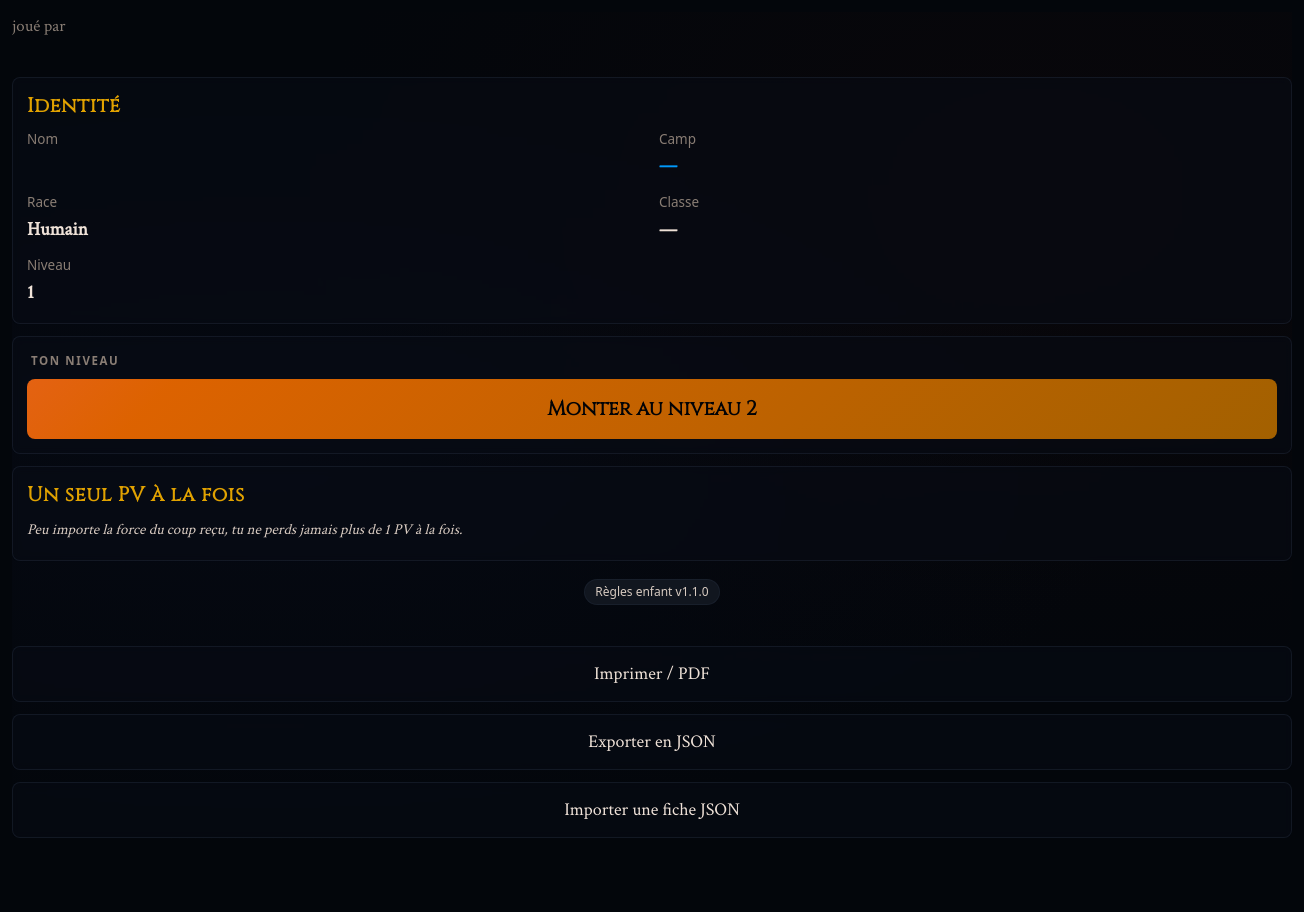
Test case: D17 ⑥ jumelle — les échelons sans capacité : Lutte et Dégâts, lus de la table › l’échelon de Lutte montre le gain de la table, et rien à choisir
Click the button "Monter au niveau 2" at (652, 409), box x1=27 y1=379 x2=1277 y2=439
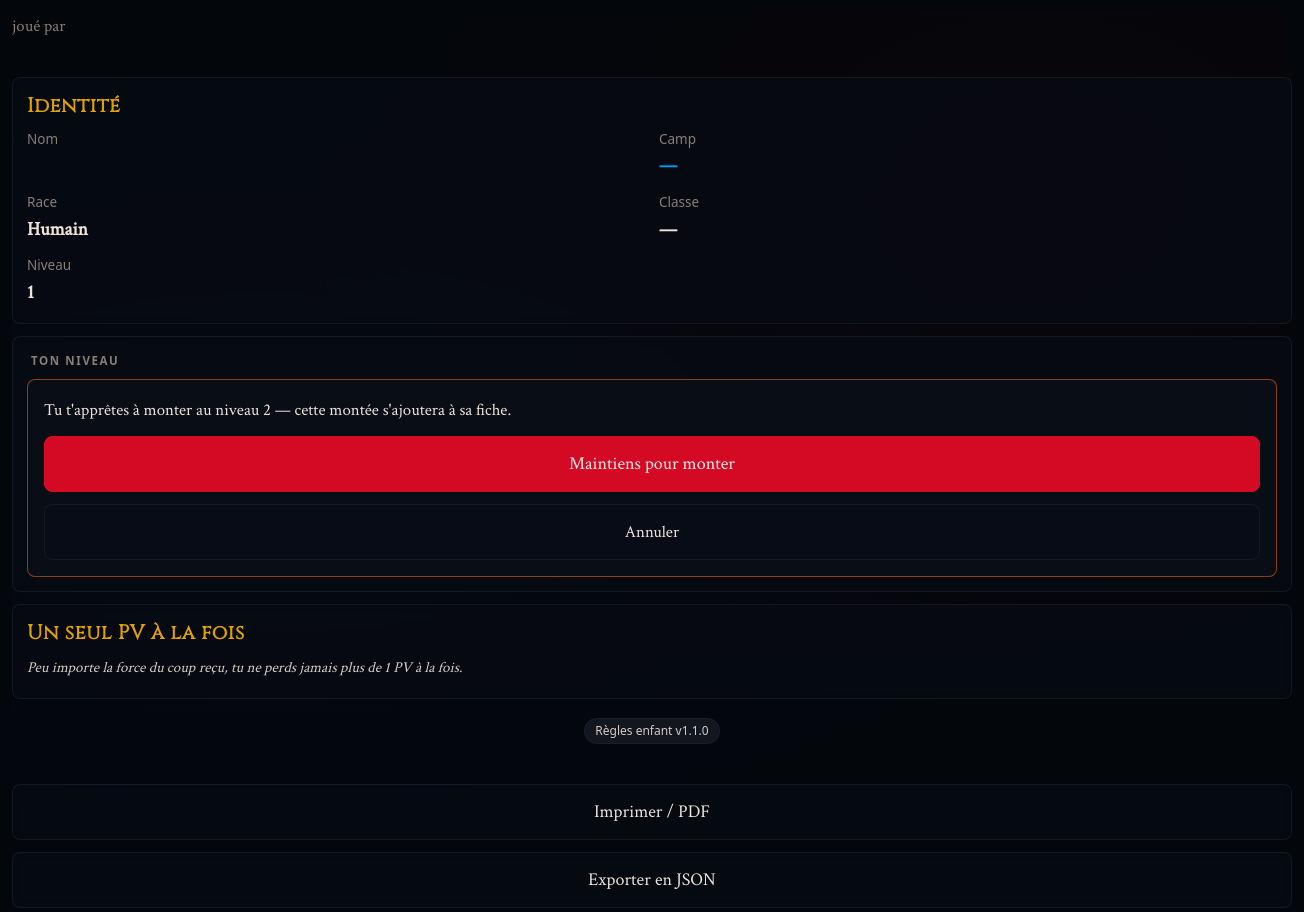
Press the mouse on the button "Maintiens pour monter" at (652, 464), box x1=44 y1=436 x2=1260 y2=492
Wait 1500 ms
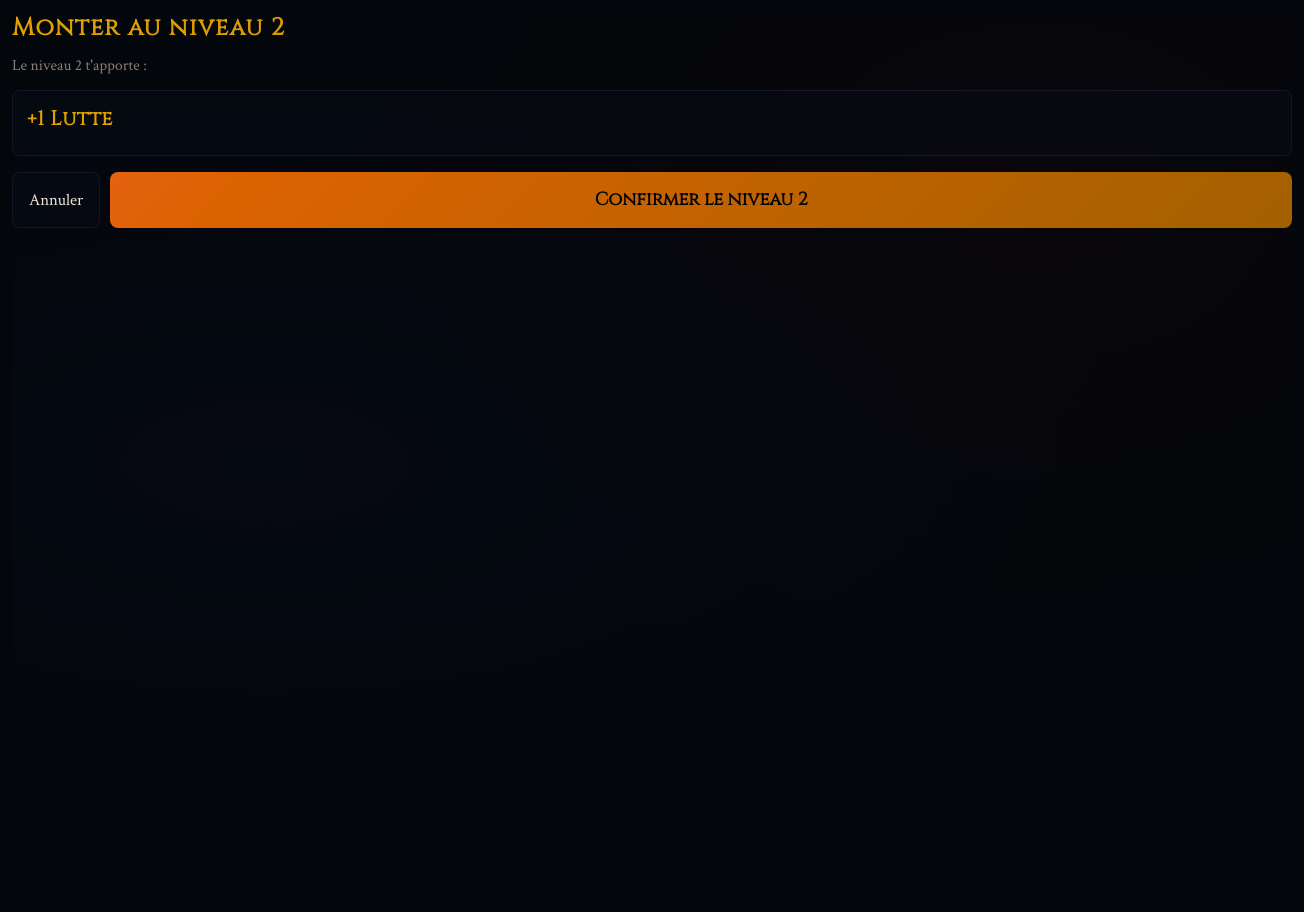
Expected: the heading "+1 Lutte" is shown, x1=27 y1=105 x2=113 y2=132
